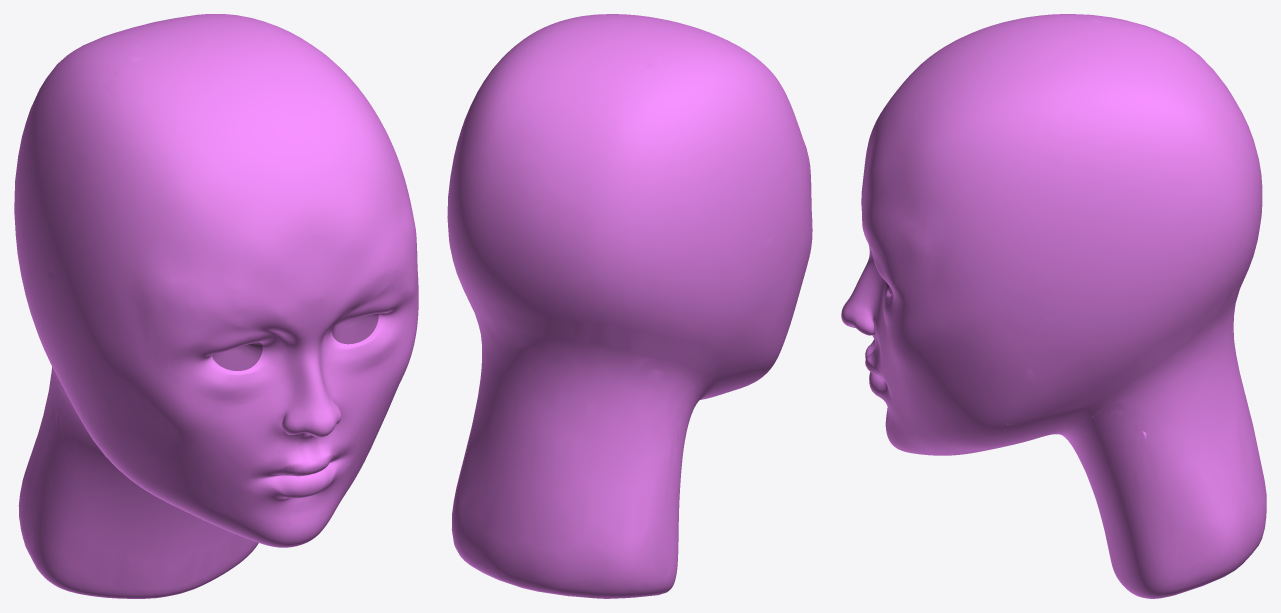
The model's file is oracle.glb.
3 renders of one model, left to right at view 1: azimuth 30°, elevation 25°; view 2: azimuth 150°, elevation 25°; view 3: azimuth 270°, elevation 25°, orthographic. The views are drawn at different scales.
Parts seen in each view (by area): view 1: head, eyes; view 2: head; view 3: head.
Part boxes in pixels (x1,y1,x2,y2): head: (14,14,418,598); eyes: (212,314,378,370); head: (447,14,812,598); head: (841,14,1266,598).
Bounding box in the file's own units: 4.16 × 7.02 × 5.1.
